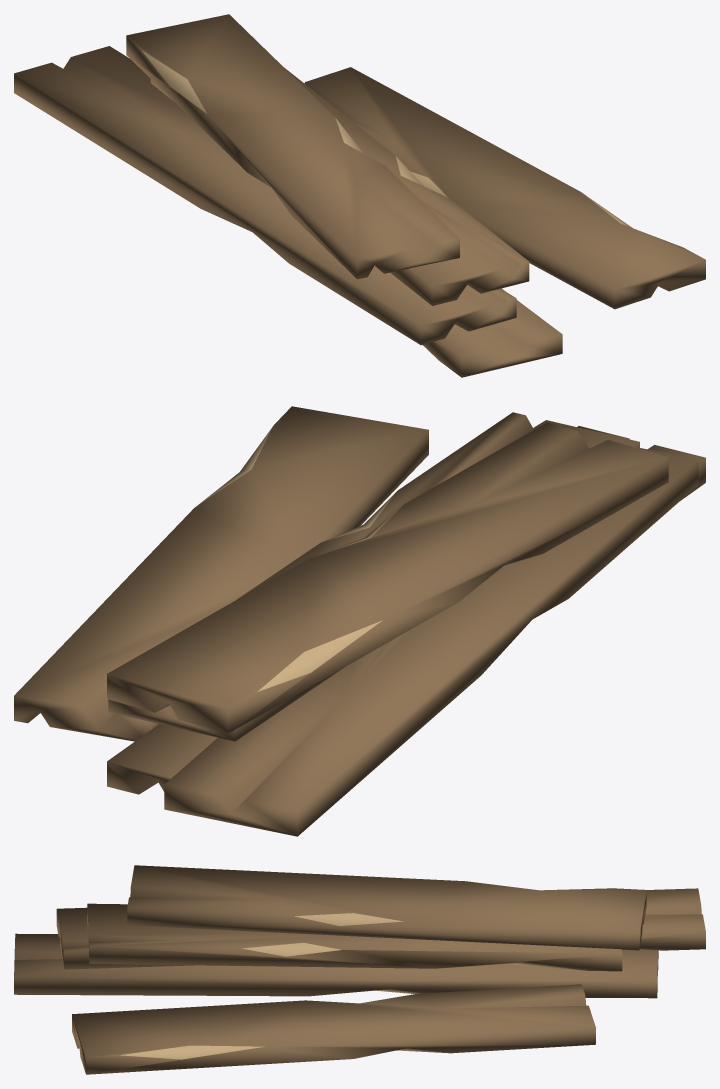
Rendered from rpgpp_ag_planks_01c.fbx.
The picture shows the model from 3 angles, top to bottom: view 1: azimuth 30°, elevation 25°; view 2: azimuth 150°, elevation 25°; view 3: azimuth 270°, elevation 25°; orthographic projection. The views are drawn at different scales.
Visible parts, largest first — view 1: rpgpp_ag_planks_01c; view 2: rpgpp_ag_planks_01c; view 3: rpgpp_ag_planks_01c.
Boxes of the visible parts, <box> form: rpgpp_ag_planks_01c: <box>14,14,705,377</box>; rpgpp_ag_planks_01c: <box>14,406,705,836</box>; rpgpp_ag_planks_01c: <box>14,865,705,1074</box>.
Size of the model in its own units: 1.11 by 0.239 by 2.15.
